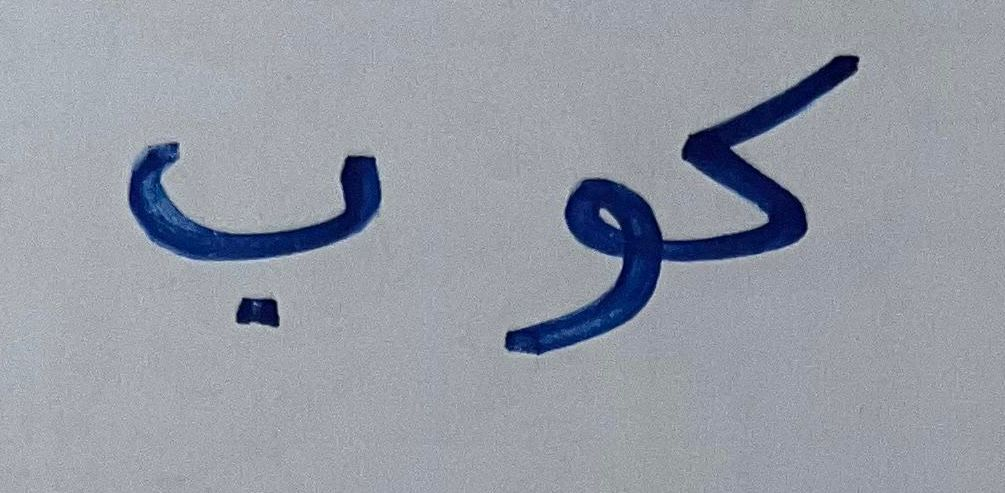beh: (107, 90, 417, 364)
kaf: (670, 21, 884, 289)
waw: (448, 153, 667, 383)
